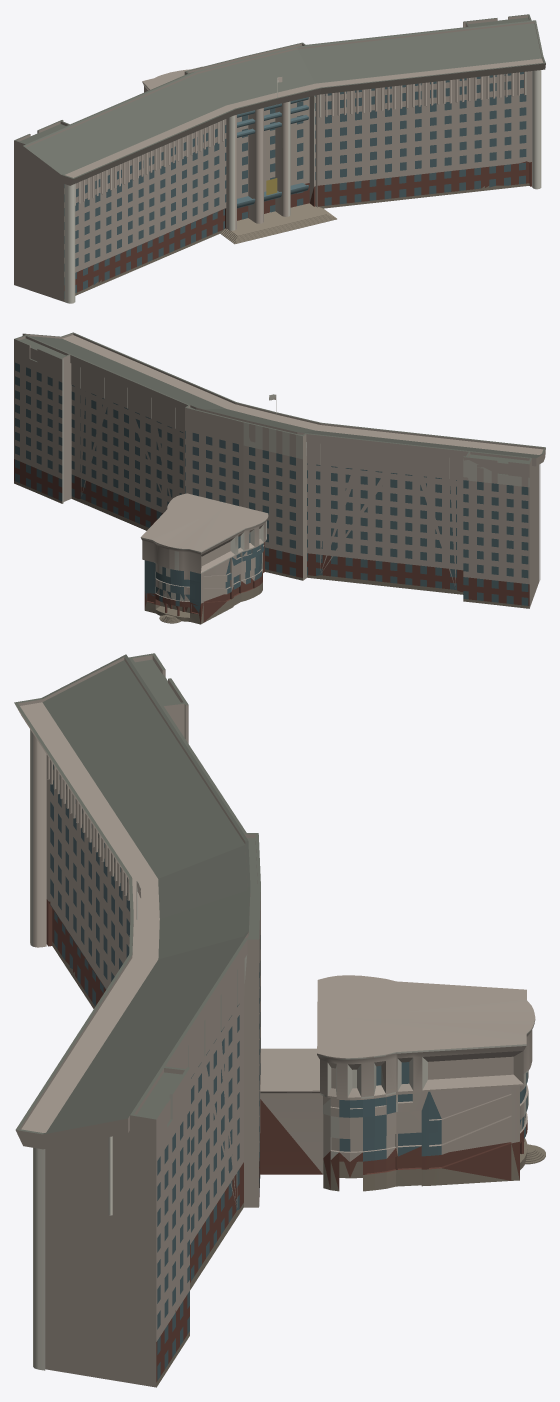
The picture shows the model from 3 angles, top to bottom: view 1: azimuth 30°, elevation 25°; view 2: azimuth 150°, elevation 25°; view 3: azimuth 270°, elevation 25°; orthographic projection. The views are drawn at different scales.
Parts seen in each view (by area): view 1: polySurface442:PIV; view 2: polySurface442:PIV; view 3: polySurface442:PIV.
Part boxes in pixels (left/top/right/bottom): polySurface442:PIV: left=14, top=14, right=545, bottom=303; polySurface442:PIV: left=14, top=332, right=545, bottom=624; polySurface442:PIV: left=14, top=653, right=545, bottom=1387.
Size of the model in its own units: 13439 by 3682 by 6478.
